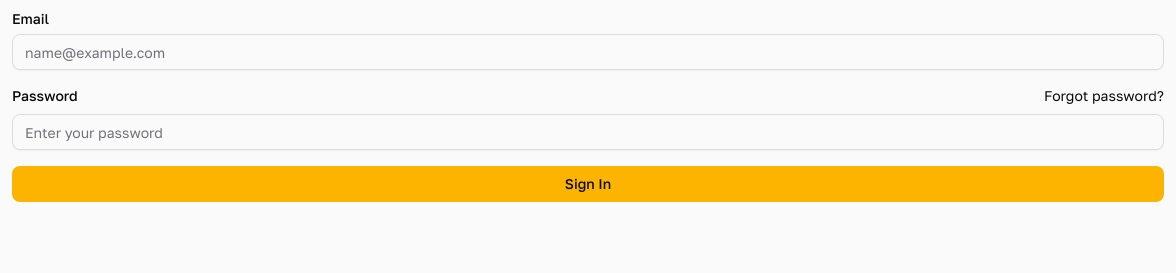
Test: LoginForm › gives a network failure a plain recovery step
Type "operator@example.com" into the field labelled "Email". click: (588, 52)
box: [12,34,1164,70]
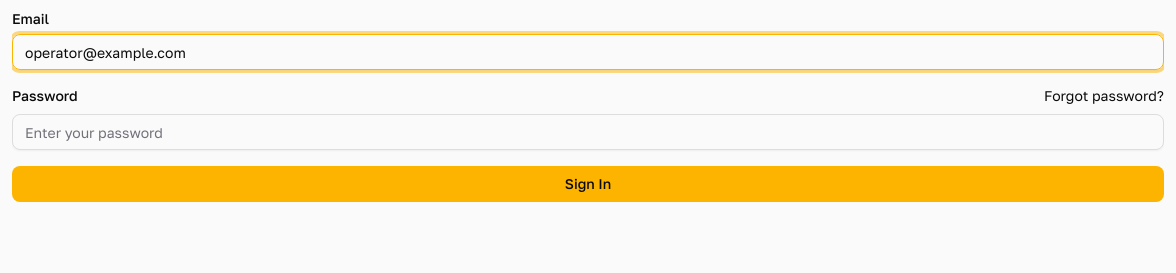
Type "not-the-password" into the password field labelled "Password". click: (588, 132)
box: [12,114,1164,150]
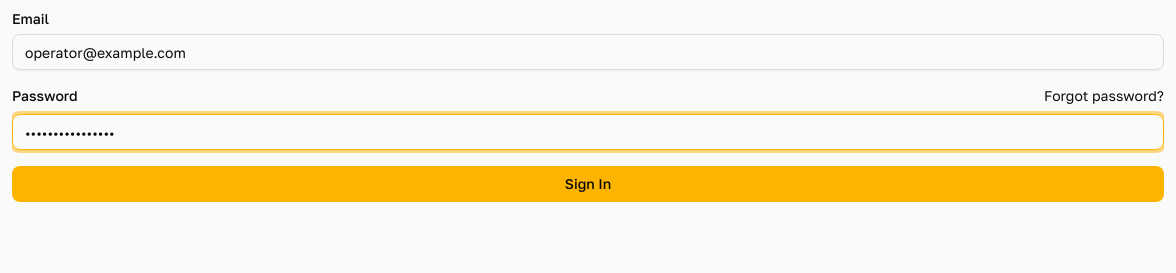
Click the button "Sign In". click: (588, 184)
box: [12,166,1164,202]
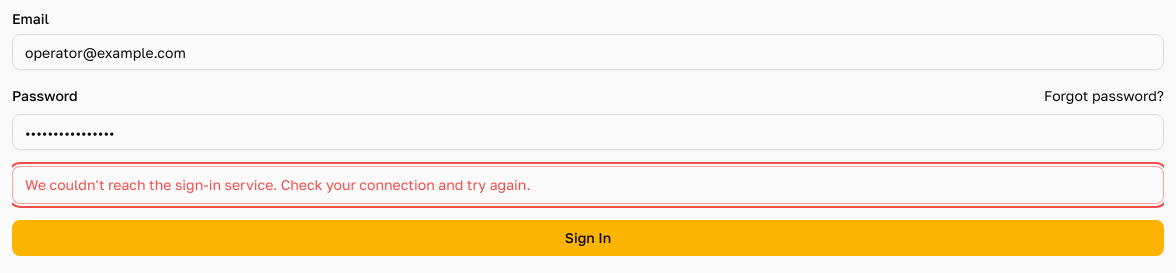
Result: the message reads "We couldn't reach the sign-in service. Check your connection and try again." at [25,176,531,193]
